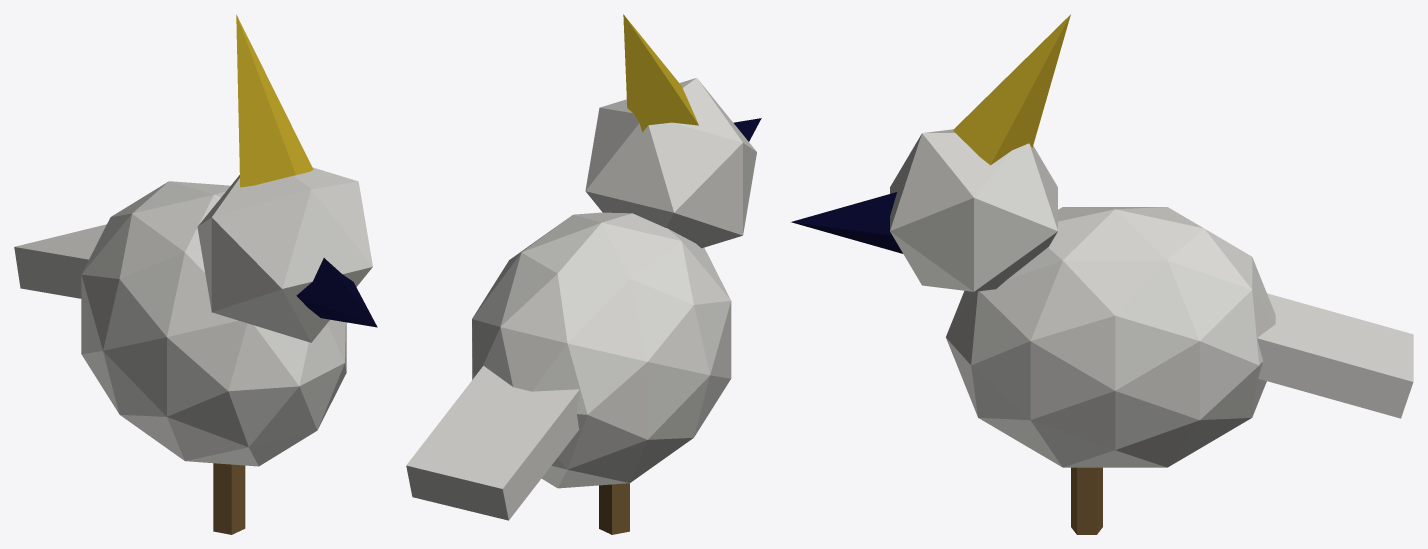
File: kakatua.glb
The picture shows the model from 3 angles, left to right: view 1: azimuth 30°, elevation 25°; view 2: azimuth 150°, elevation 25°; view 3: azimuth 270°, elevation 25°; orthographic projection. The views are drawn at different scales.
Visible parts, largest first — view 1: kbs_kakatua; view 2: kbs_kakatua; view 3: kbs_kakatua.
Boxes of the visible parts, box(x1,y1,x2,y2) form: kbs_kakatua: box(14, 14, 377, 534); kbs_kakatua: box(406, 14, 761, 534); kbs_kakatua: box(791, 14, 1413, 534).
Bounding box in the file's own units: 0.1788 × 0.4 × 0.4384.
